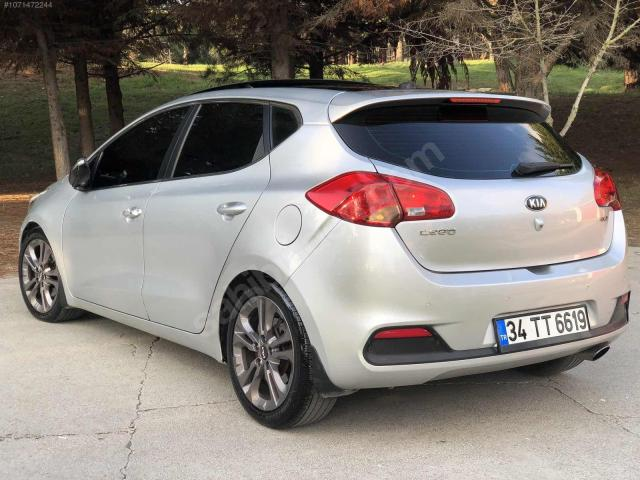plaka: (496, 306, 590, 347)
